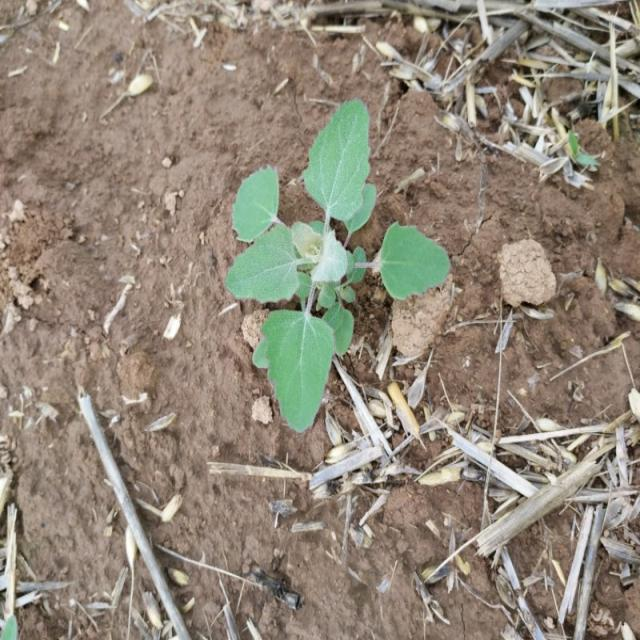goosefoots: (206, 114, 442, 418)
